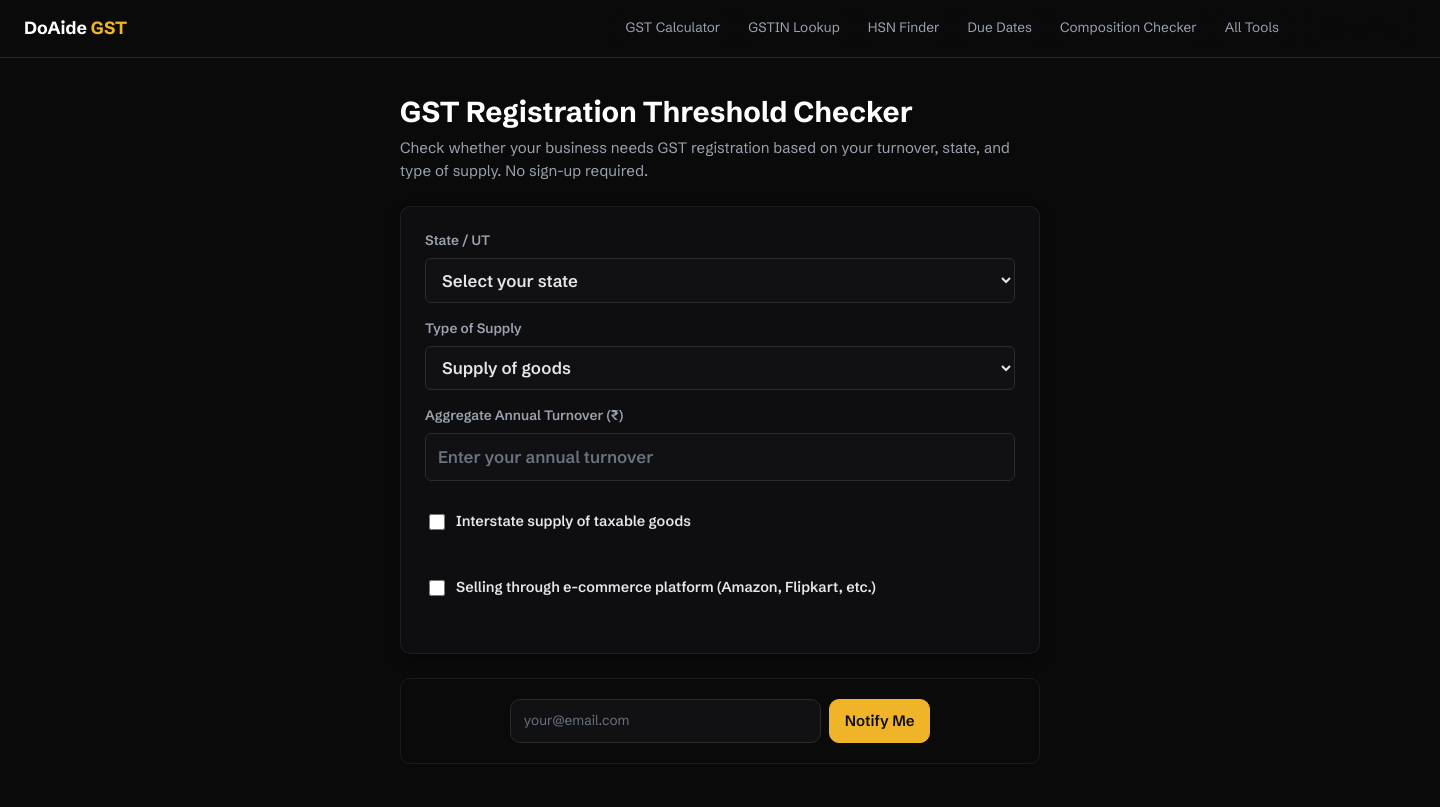
TurnoverLimitPage › shows not mandatory when turnover is below threshold
Select "Maharashtra" in the dropdown labelled "State / UT" at point(720, 280), box [425,258,1015,303]
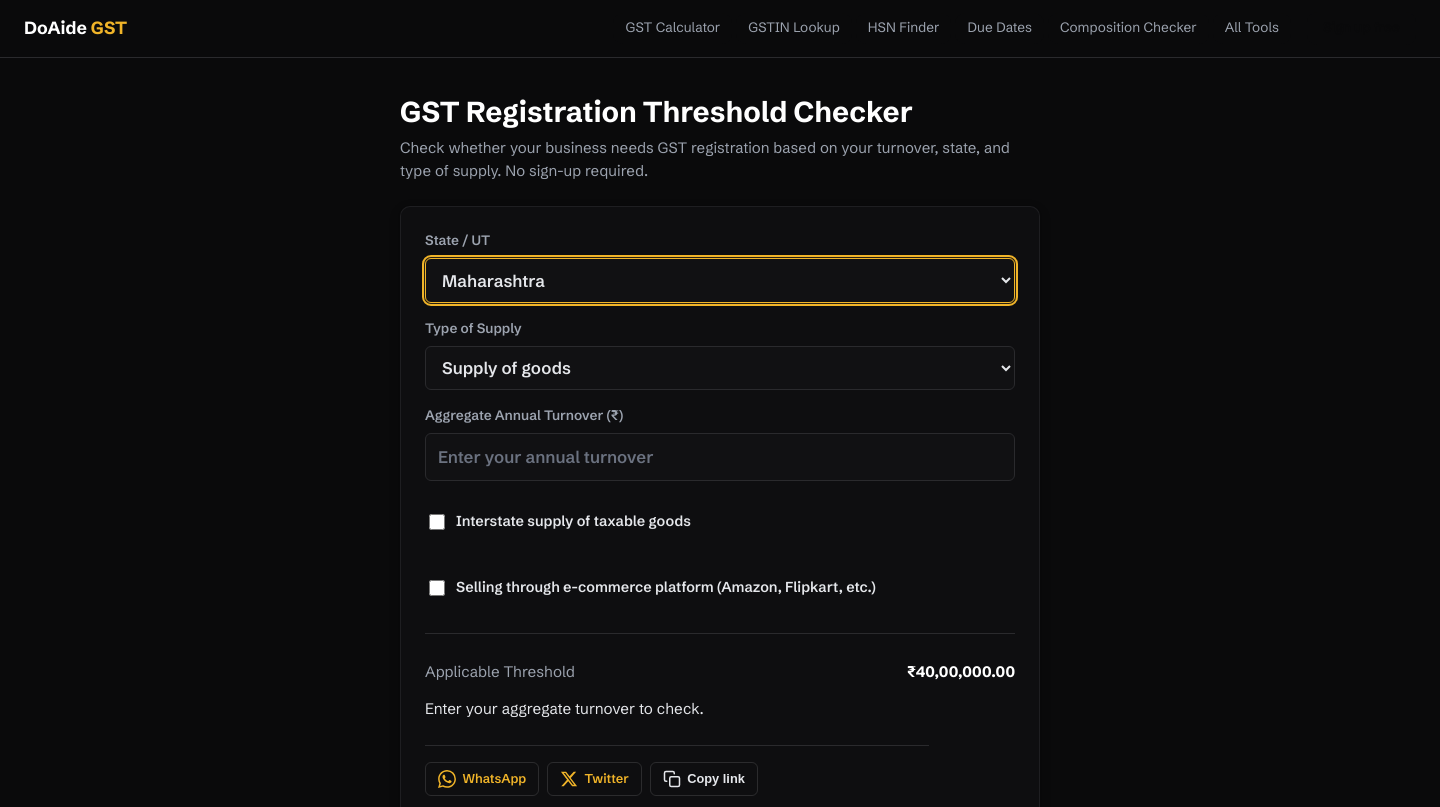
Type "1000000" into the number field with placeholder "Enter your annual turnover" at point(720, 457), box [425,433,1015,481]
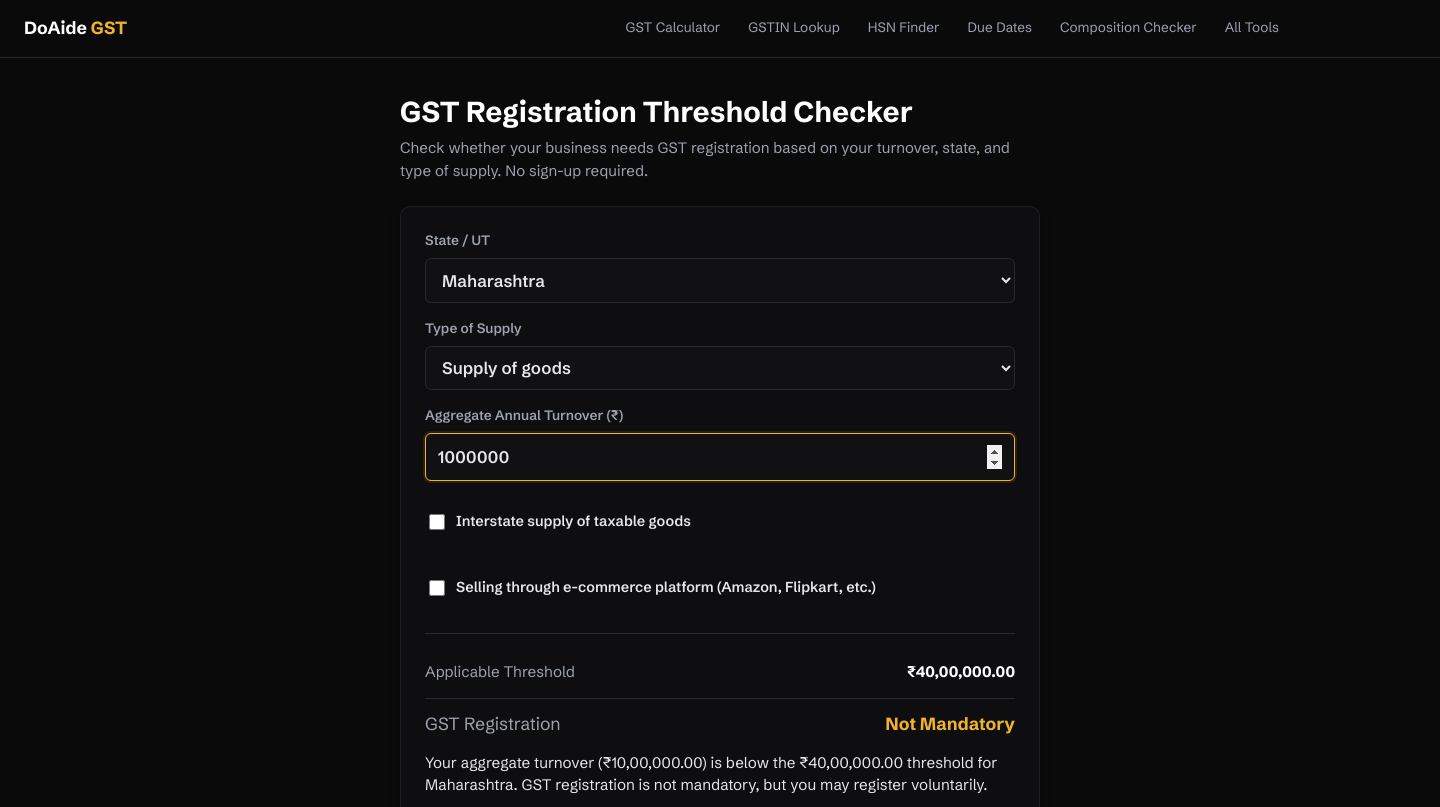
Expected: the text "Not Mandatory" is shown, [885,711,1015,737]
